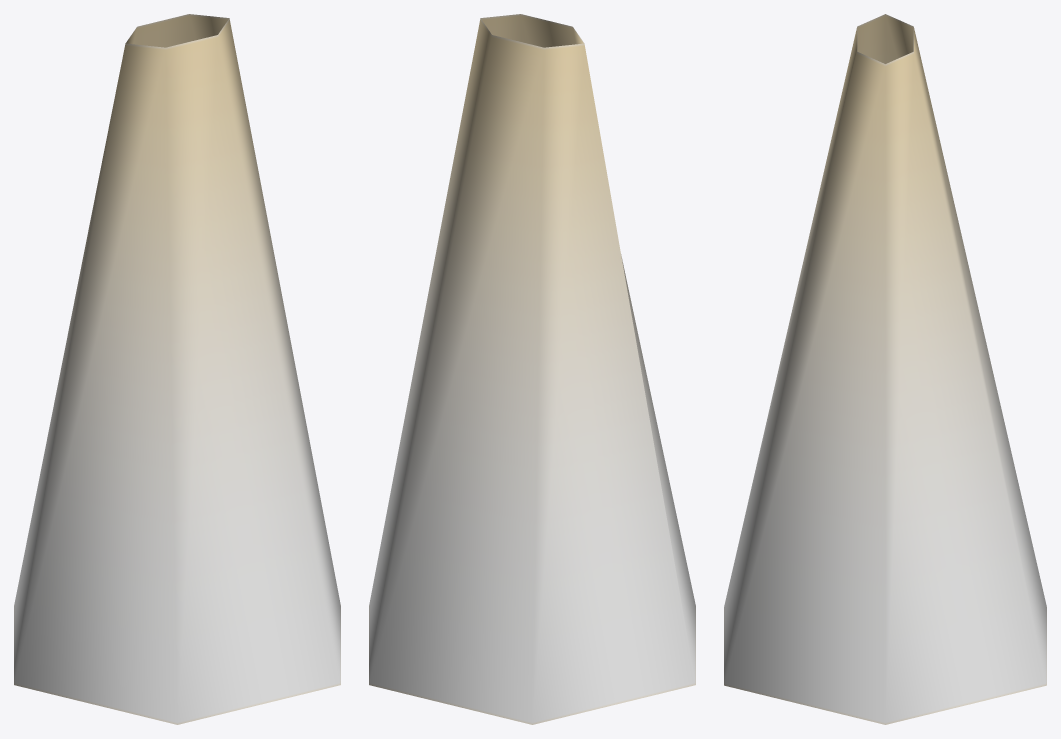
File: LightShape.FBX
3 views of the same model, side by side, from view 1: azimuth 30°, elevation 25°; view 2: azimuth 150°, elevation 25°; view 3: azimuth 270°, elevation 25° (orthographic).
Visible parts, largest first — view 1: LightShape; view 2: LightShape; view 3: LightShape.
Part boxes in pixels (<box>): LightShape: <box>14,14,340,724</box>; LightShape: <box>369,14,695,724</box>; LightShape: <box>724,14,1046,724</box>.
Bounding box in the file's own units: 376 × 675 × 325.
